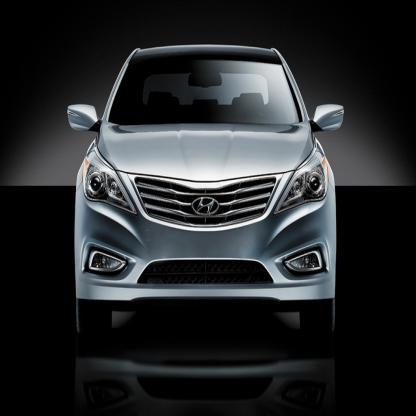Vehicle: (68, 51, 347, 351)
